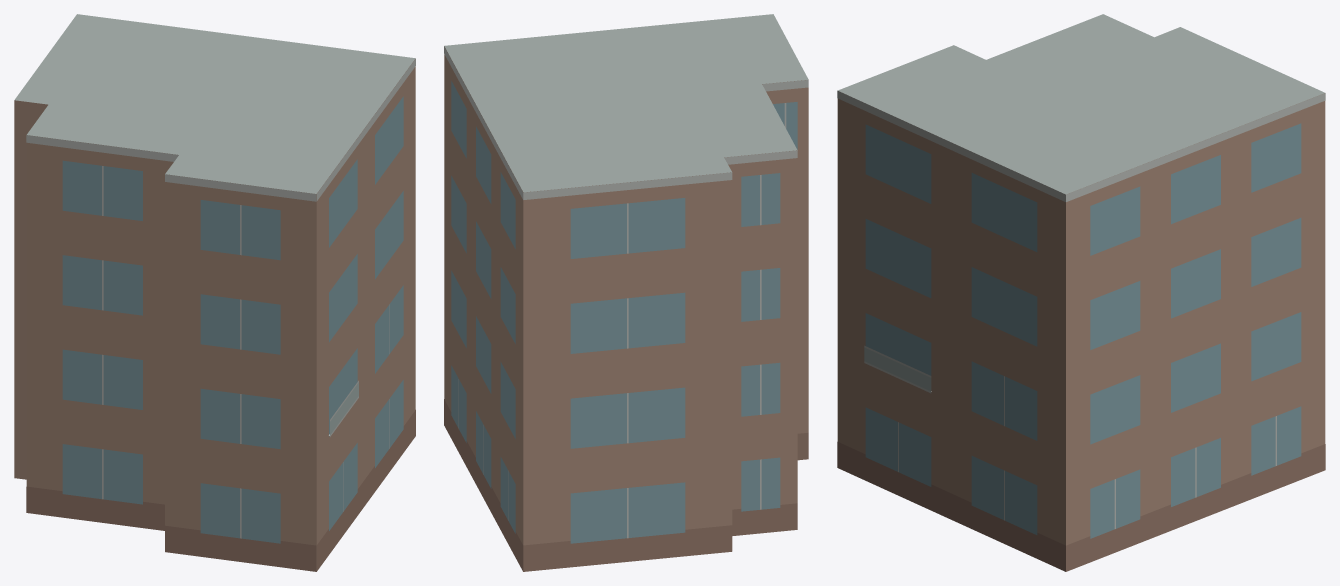
The model's file is residential-ee894702-3ee9-4d95-b2a0-1df734fee621.glb.
3 renders of one model, left to right at view 1: azimuth 30°, elevation 25°; view 2: azimuth 150°, elevation 25°; view 3: azimuth 270°, elevation 25°, orthographic.
Parts seen in each view (by area): view 1: residential-ee894702-3ee9-4d95-b2a0-1df734fee621.tmp; view 2: residential-ee894702-3ee9-4d95-b2a0-1df734fee621.tmp; view 3: residential-ee894702-3ee9-4d95-b2a0-1df734fee621.tmp.
Boxes of the visible parts, bbox=[...] form: residential-ee894702-3ee9-4d95-b2a0-1df734fee621.tmp: bbox=[14, 14, 415, 571]; residential-ee894702-3ee9-4d95-b2a0-1df734fee621.tmp: bbox=[444, 14, 808, 571]; residential-ee894702-3ee9-4d95-b2a0-1df734fee621.tmp: bbox=[837, 14, 1325, 571].
Bounding box in the file's own units: 12.27 × 11.95 × 14.01.
